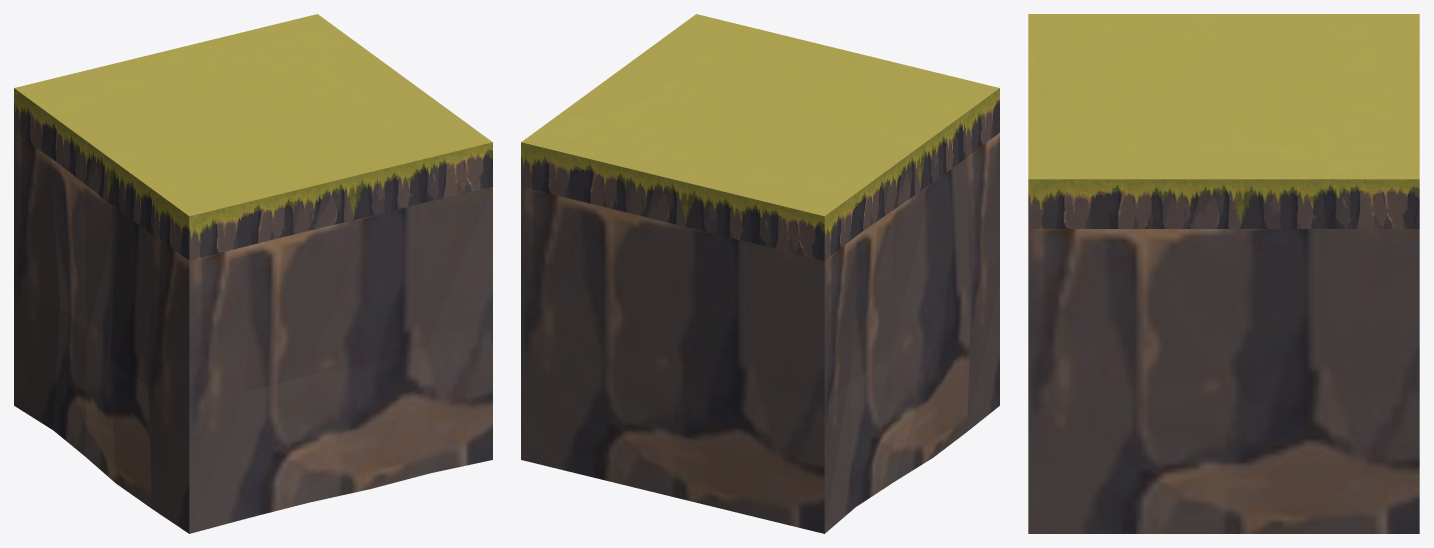
The model's file is rc_terrain_islandedge_outercorner_8m.glb.
The picture shows the model from 3 angles, left to right: view 1: azimuth 30°, elevation 25°; view 2: azimuth 150°, elevation 25°; view 3: azimuth 270°, elevation 25°; orthographic projection. The views are drawn at different scales.
Visible parts, largest first — view 1: SM_RC_Terrain_IslandEdge_OuterCorner_8m; view 2: SM_RC_Terrain_IslandEdge_OuterCorner_8m; view 3: SM_RC_Terrain_IslandEdge_OuterCorner_8m.
Boxes of the visible parts, box(x1,y1,x2,y2) form: SM_RC_Terrain_IslandEdge_OuterCorner_8m: box(14, 14, 492, 533); SM_RC_Terrain_IslandEdge_OuterCorner_8m: box(521, 14, 999, 533); SM_RC_Terrain_IslandEdge_OuterCorner_8m: box(1028, 14, 1419, 533).
Size of the model in its own units: 8.23 by 8 by 8.
1 material, 1 textured.
